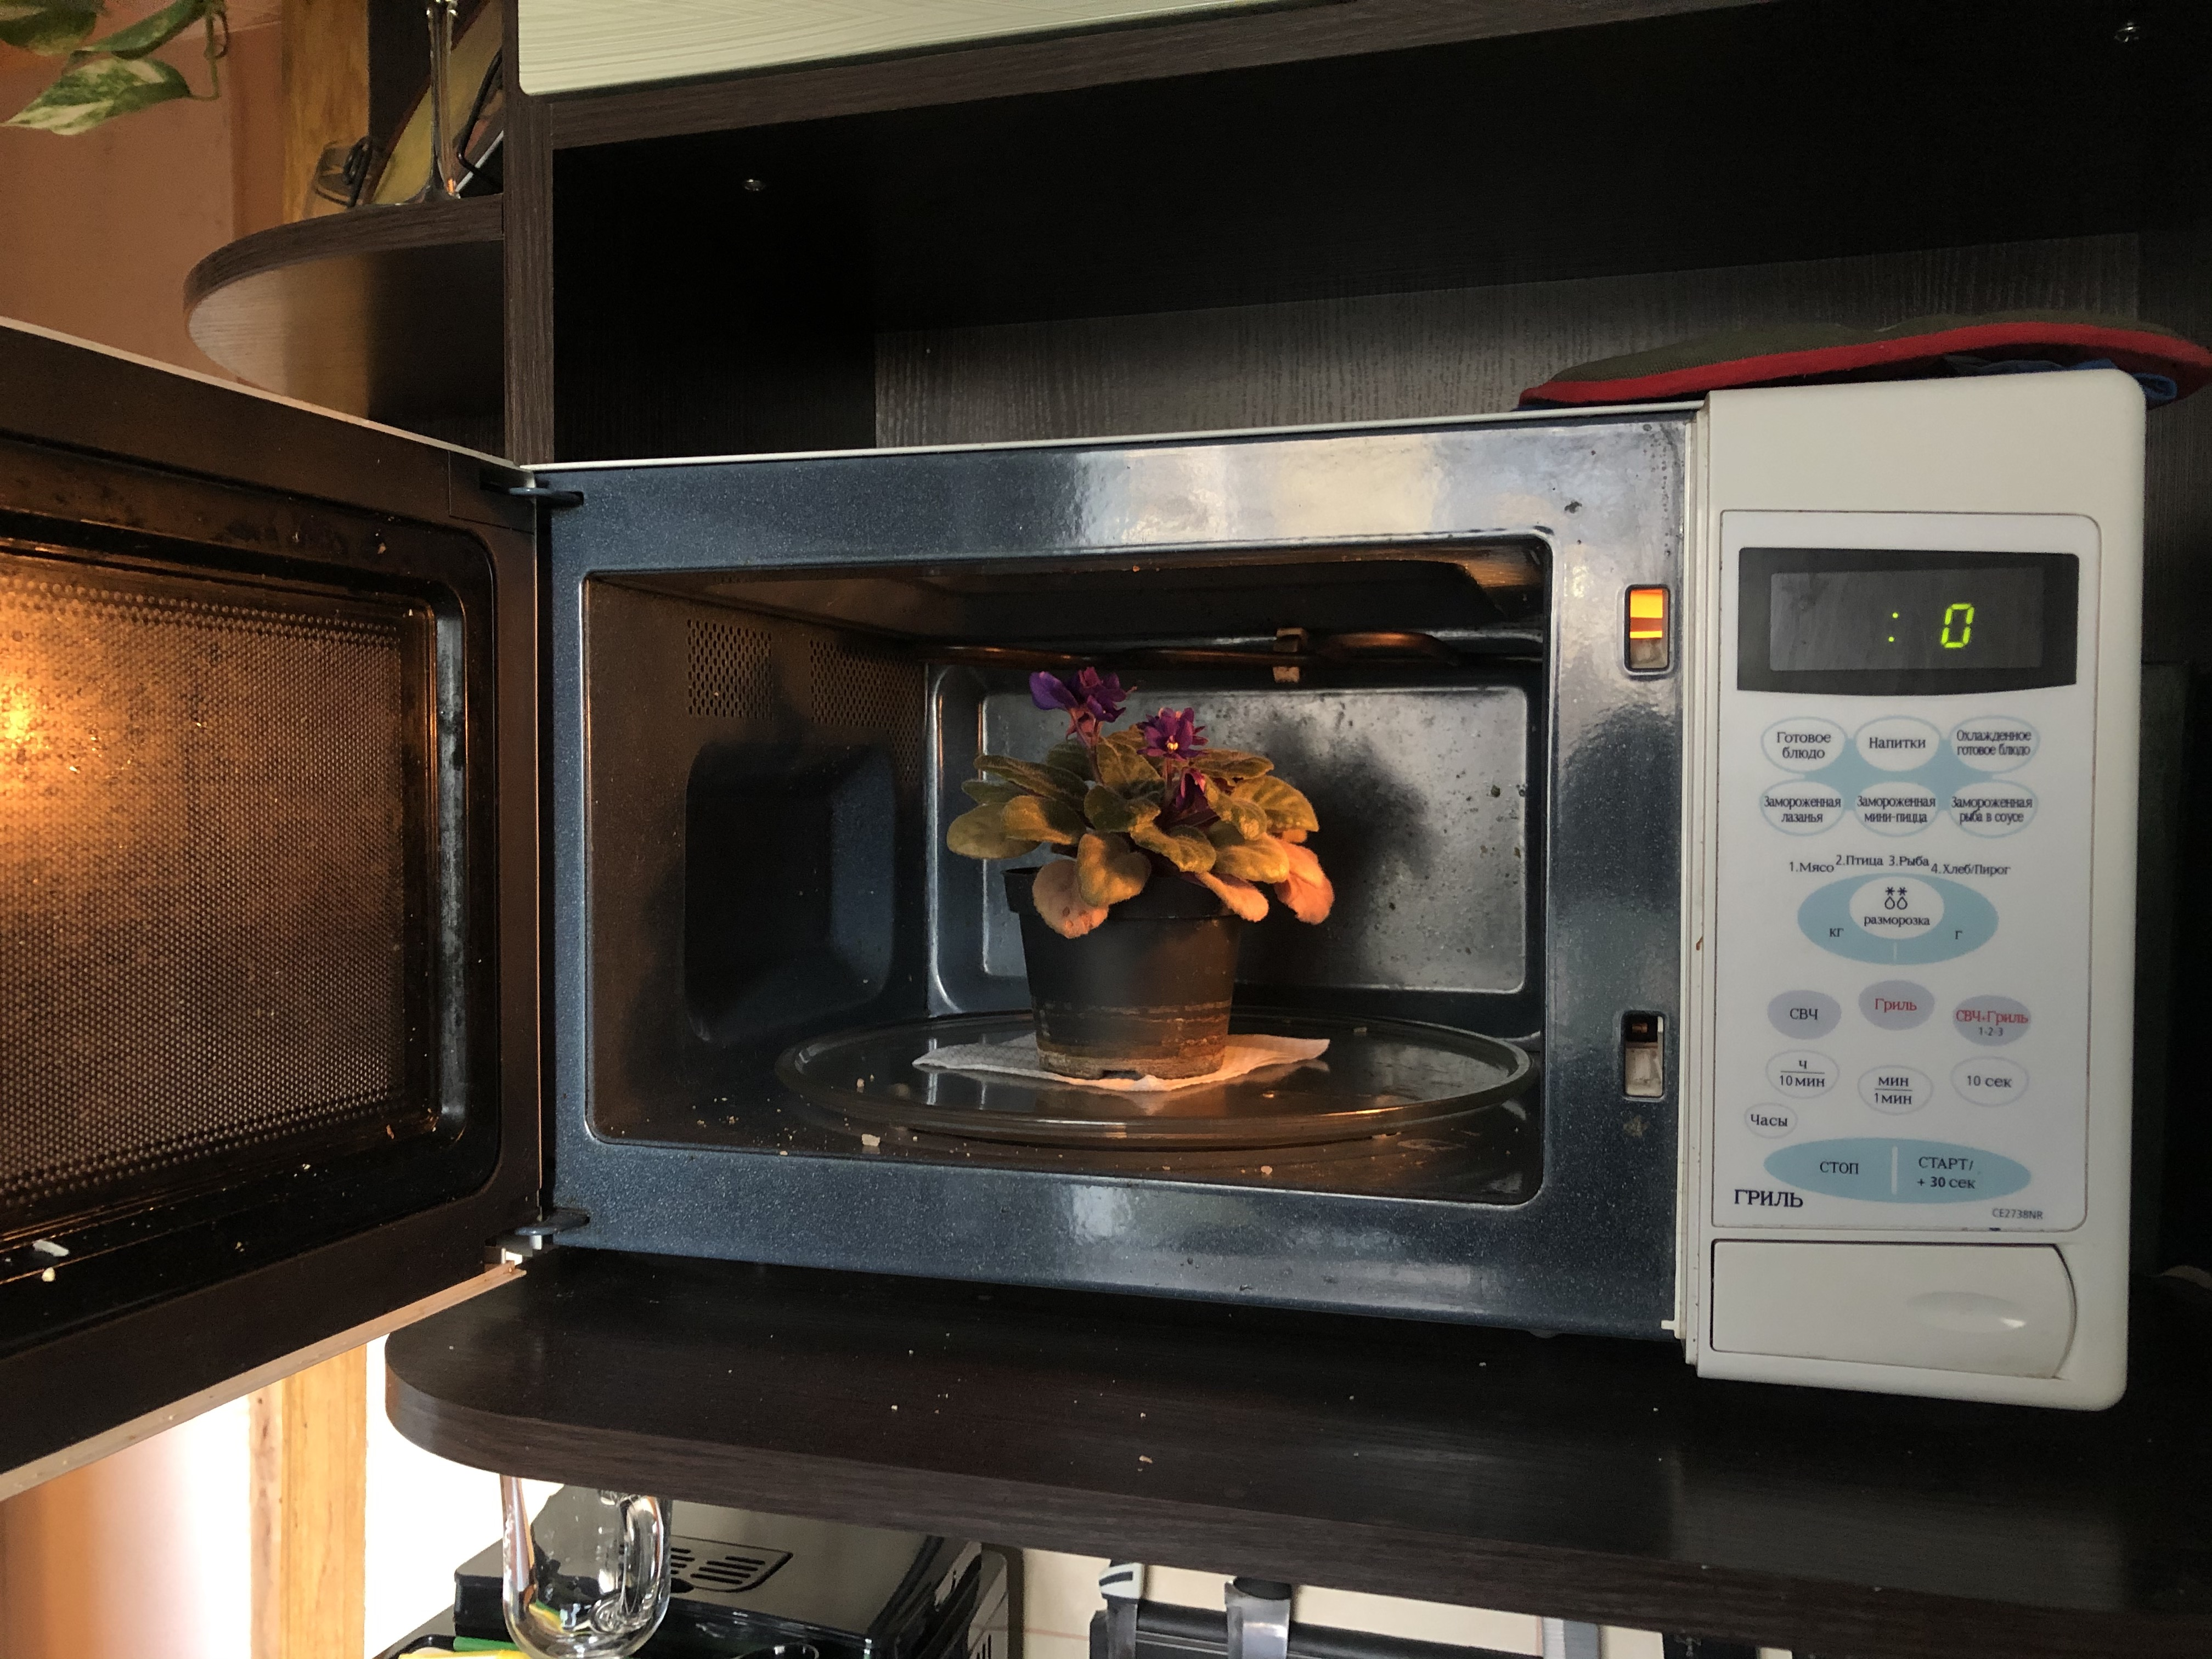ignore: (975, 645, 1332, 946)
